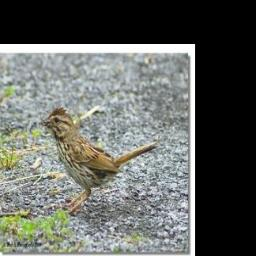Sparrow: (35, 104, 160, 216)
